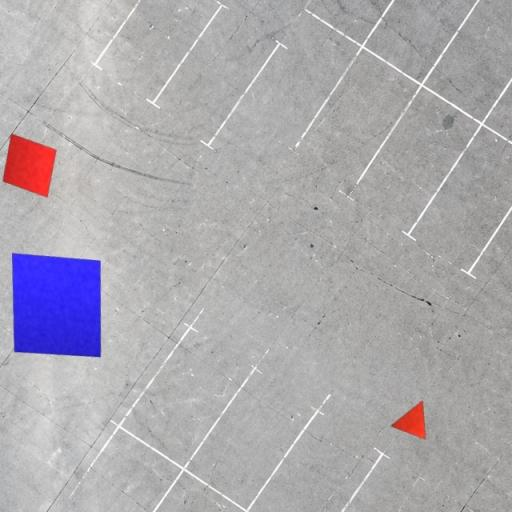BLUE_SQUARE: (11, 253, 102, 358)
RED_SQUARE: (2, 134, 56, 198)
